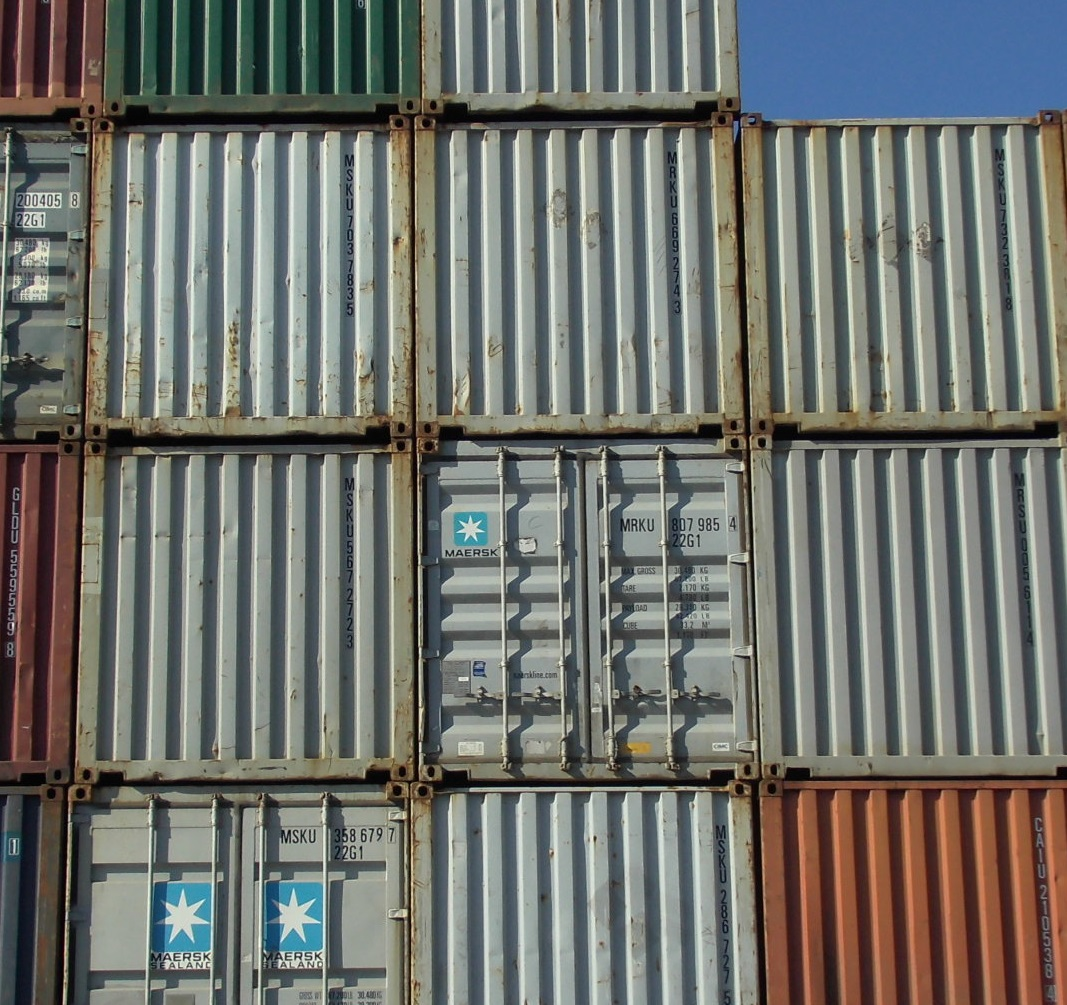container_door: (410, 437, 751, 787), (70, 780, 403, 1005)
container_no_door: (69, 442, 415, 784), (750, 436, 1067, 779), (82, 122, 408, 439), (413, 114, 739, 431), (736, 110, 1062, 427), (406, 784, 751, 1005), (756, 784, 1066, 1005)
